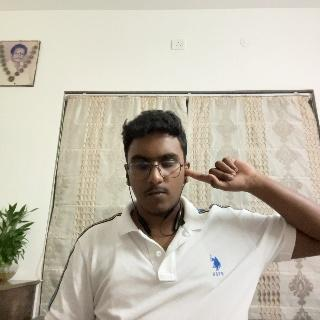Deaf: (191, 153, 278, 201)
Face: (122, 110, 189, 215)
